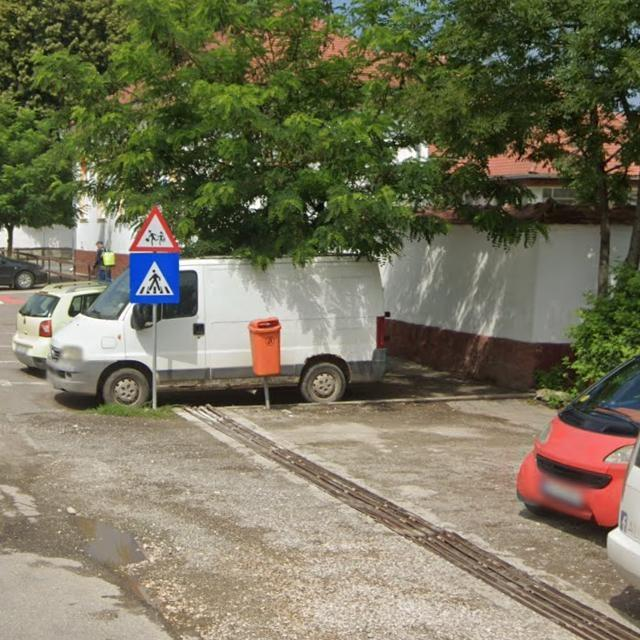info_crosswalk: (130, 252, 179, 303)
